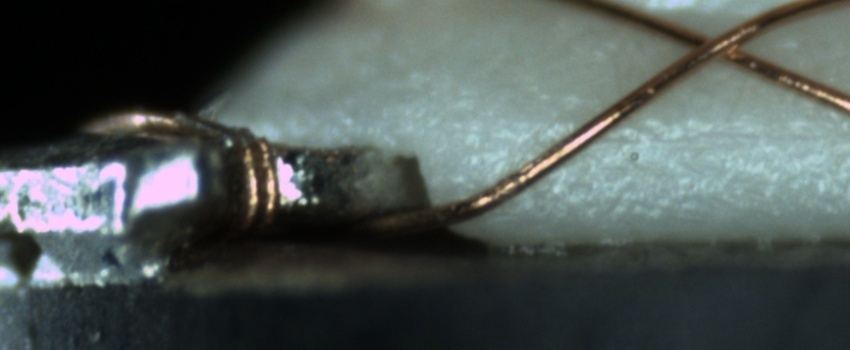CL: (666, 15, 765, 73)
DL: (579, 105, 849, 164)
TE: (79, 106, 287, 234)
